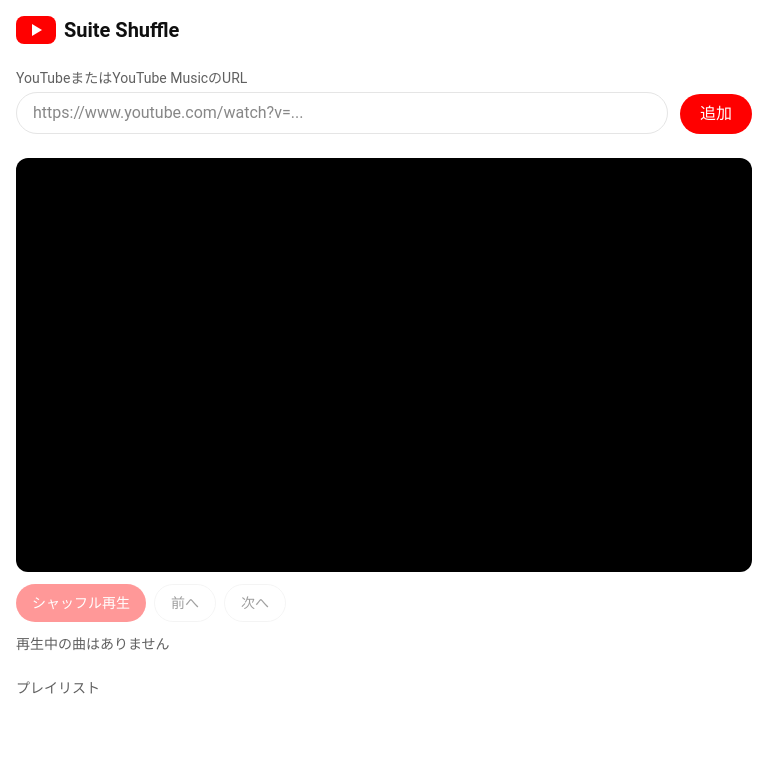
Scenario: App › サポート対象外のURLを送信すると、エラーメッセージを表示しプレイリストに追加しない
Type "https://example.com/not-a-video" into the field labelled "YouTubeまたはYouTube MusicのURL" at {"x": 342, "y": 113}, box [16, 92, 668, 134]
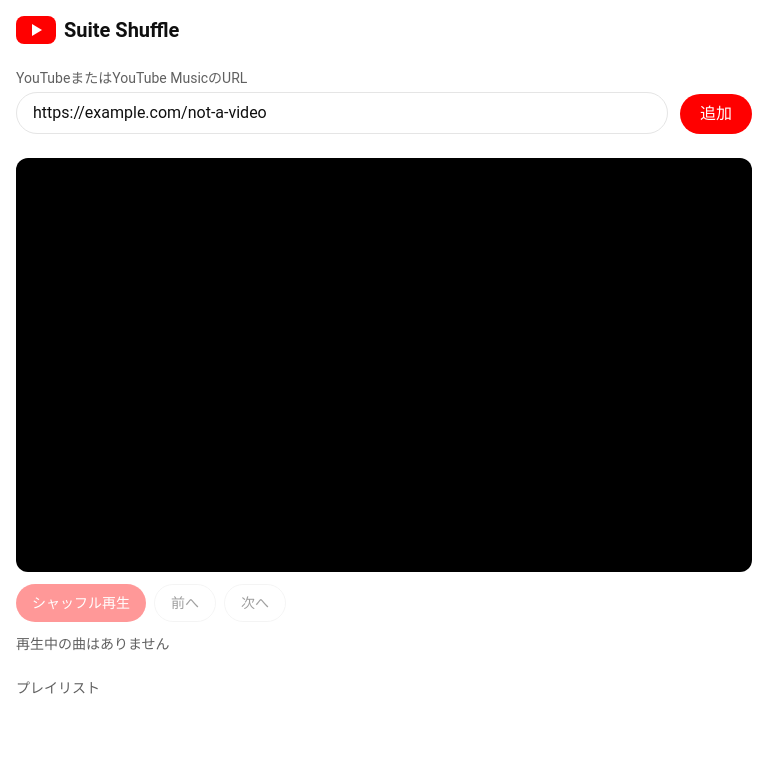
Click the button "追加" at {"x": 716, "y": 114}, box [680, 94, 752, 134]
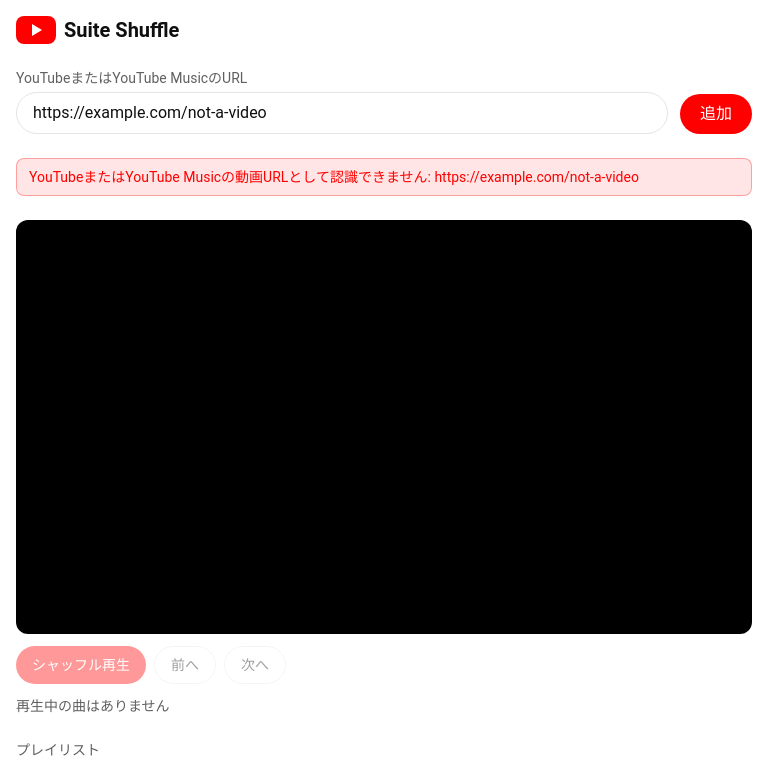
Check: the message shows "YouTubeまたはYouTube Musicの動画URLとして認識できません", box [29, 169, 639, 185]
